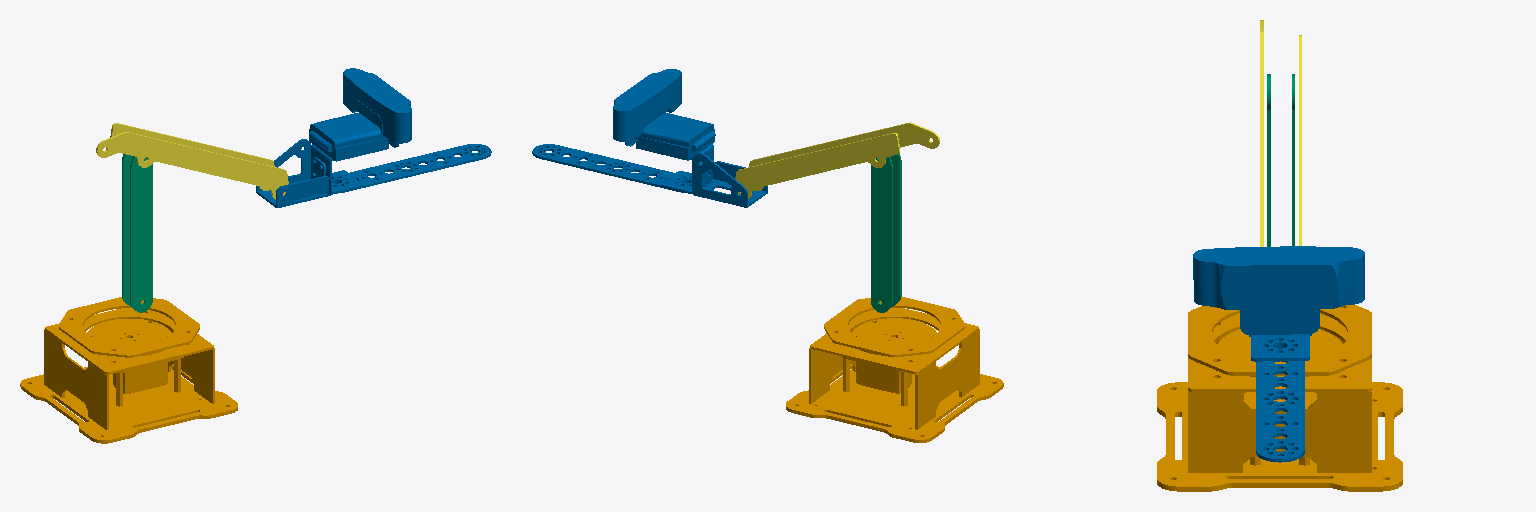
The robot description file, URDF, robot "New_arm":
<robot name="New_arm" version="1.0">
  <joint name="after base full_link_joint" type="revolute">
    <limit lower="-3.14000" upper="3.14000" effort="0.00000" velocity="0.00000"/>
    <origin rpy="0.00000 0.00000 0.00000" xyz="0.43239 -1.84063 83.96122"/>
    <parent link="arm_base_link"/>
    <child link="after_base_full_link"/>
    <axis xyz="0.00000 0.00000 1.00000"/>
  </joint>
  <joint name="link1_link_joint" type="revolute">
    <limit lower="-3.14000" upper="3.14000" effort="0.00000" velocity="0.00000"/>
    <origin rpy="0.00000 0.00000 0.00000" xyz="8.14224 -0.43239 1.61718"/>
    <parent link="after_base_full_link"/>
    <child link="link1_link"/>
    <axis xyz="0.00000 1.00000 0.00000"/>
  </joint>
  <joint name="link2_link_joint" type="revolute">
    <limit lower="-3.14000" upper="3.14000" effort="0.00000" velocity="0.00000"/>
    <origin rpy="0.00000 0.00000 0.00000" xyz="1.00000 -8.56000 128.39612"/>
    <parent link="link1_link"/>
    <child link="link2_link"/>
    <axis xyz="0.00000 1.00000 0.00000"/>
  </joint>
  <joint name="end_effector_link_joint" type="revolute">
    <limit lower="-3.14000" upper="3.14000" effort="0.00000" velocity="0.00000"/>
    <origin rpy="0.00000 0.00000 0.00000" xyz="125.31939 10.99000 -57.78452"/>
    <parent link="link2_link"/>
    <child link="end_effector_link"/>
    <axis xyz="0.00000 1.00000 0.00000"/>
  </joint>
  <link name="arm_base_link">
    <collision name="arm base_collision">
      <origin rpy="0.00000 0.00000 0.00000" xyz="0.00000 0.00000 0.00000"/>
      <geometry>
        <mesh filename="../meshes/stl/arm base.stl" scale="1.00000 1.00000 1.00000"/>
      </geometry>
    </collision>
    <visual name="arm base">
      <material name="None"/>
      <origin rpy="0.00000 0.00000 0.00000" xyz="0.00000 0.00000 0.00000"/>
      <geometry>
        <mesh filename="../meshes/stl/arm base.stl" scale="1.00000 1.00000 1.00000"/>
      </geometry>
    </visual>
  </link>
  <link name="after_base_full_link">
    <collision name="after base full_collision">
      <origin rpy="0.00000 0.00000 0.00000" xyz="-0.00000 0.00000 0.00000"/>
      <geometry>
        <mesh filename="../meshes/stl/after base full.stl" scale="1.00000 1.00000 1.00000"/>
      </geometry>
    </collision>
    <visual name="after base full">
      <material name="None"/>
      <origin rpy="0.00000 0.00000 0.00000" xyz="-0.00000 0.00000 0.00000"/>
      <geometry>
        <mesh filename="../meshes/stl/after base full.stl" scale="1.00000 1.00000 1.00000"/>
      </geometry>
    </visual>
  </link>
  <link name="link1_link">
    <collision name="link1_collision">
      <origin rpy="0.00000 0.00000 1.57080" xyz="0.00000 0.00000 -0.00001"/>
      <geometry>
        <mesh filename="../meshes/stl/link1.stl" scale="1.00000 1.00000 1.00000"/>
      </geometry>
    </collision>
    <inertial>
      <inertia ixx="134.79547" ixy="-0.00000" ixz="-1.35022" iyy="134.47944" iyz="-0.00000" izz="5.42704"/>
      <origin rpy="0.00000 0.00000 0.00000" xyz="-0.84107 2.90000 64.94700"/>
      <mass value="0.10000"/>
    </inertial>
    <visual name="link1">
      <material name="None"/>
      <origin rpy="0.00000 0.00000 1.57080" xyz="0.00000 0.00000 0.00000"/>
      <geometry>
        <mesh filename="../meshes/stl/link1.stl" scale="1.00000 1.00000 1.00000"/>
      </geometry>
    </visual>
  </link>
  <link name="link2_link">
    <collision name="link2_collision">
      <origin rpy="0.00000 0.00000 0.00000" xyz="-0.00000 -0.00000 0.00003"/>
      <geometry>
        <mesh filename="../meshes/stl/link2.stl" scale="1.00000 1.00000 1.00000"/>
      </geometry>
    </collision>
    <inertial>
      <inertia ixx="46.58794" ixy="-5.28941" ixz="75.92046" iyy="220.45627" iyz="1.19376" izz="187.76503"/>
      <origin rpy="0.00000 0.00000 0.00000" xyz="51.92619 10.92440 -15.11619"/>
      <mass value="0.10000"/>
    </inertial>
    <visual name="link2">
      <material name="None"/>
      <origin rpy="0.00000 0.00000 0.00000" xyz="-0.00000 -0.00000 0.00000"/>
      <geometry>
        <mesh filename="../meshes/stl/link2.stl" scale="1.00000 1.00000 1.00000"/>
      </geometry>
    </visual>
  </link>
  <link name="end_effector_link">
    <collision name="end_effector_collision">
      <origin rpy="-0.00000 1.57080 0.00000" xyz="-0.00002 -0.00000 -0.00003"/>
      <geometry>
        <mesh filename="../meshes/stl/end_effector.stl" scale="1.00000 1.00000 1.00000"/>
      </geometry>
    </collision>
    <visual name="end_effector">
      <material name="None"/>
      <origin rpy="-0.00000 1.57080 0.00000" xyz="0.00001 -0.00000 -0.00001"/>
      <geometry>
        <mesh filename="../meshes/stl/end_effector.stl" scale="1.00000 1.00000 1.00000"/>
      </geometry>
    </visual>
  </link>
</robot>

--- Facts derived from the render (not from the file) ---
3 views of the same robot in one strip: view 1: azimuth 30°, elevation 25°; view 2: azimuth 150°, elevation 25°; view 3: azimuth 270°, elevation 25° (orthographic).
Robot: New_arm — 5 links, 4 joints (4 revolute); root link arm_base_link; default pose: every joint at zero.
Visible links, largest first — view 1: arm_base_link, end_effector_link, link2_link, link1_link; view 2: arm_base_link, end_effector_link, link2_link, link1_link; view 3: arm_base_link, end_effector_link, link2_link, link1_link.
Link boxes in pixels (x1,y1,x2,y2): arm_base_link: [20, 297, 237, 443]; end_effector_link: [256, 68, 491, 207]; link2_link: [96, 123, 288, 199]; link1_link: [122, 154, 152, 312]; arm_base_link: [786, 297, 1003, 442]; end_effector_link: [532, 69, 767, 207]; link2_link: [735, 122, 939, 198]; link1_link: [871, 153, 901, 312]; arm_base_link: [1157, 305, 1402, 491]; end_effector_link: [1193, 246, 1364, 462]; link2_link: [1260, 20, 1301, 246]; link1_link: [1267, 74, 1294, 246].
Size in the robot's own frame: 402 by 135 by 242 metres.
Meshes: 5 distinct files referenced, 4 mesh visuals loaded (4 binary STL); not drawn: 1 (reference not matched to a file when rendering).
